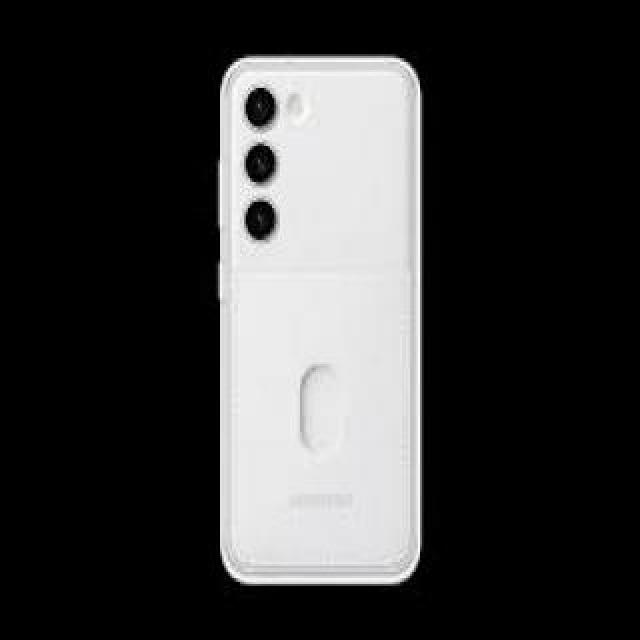smart phone: (155, 30, 477, 627)
